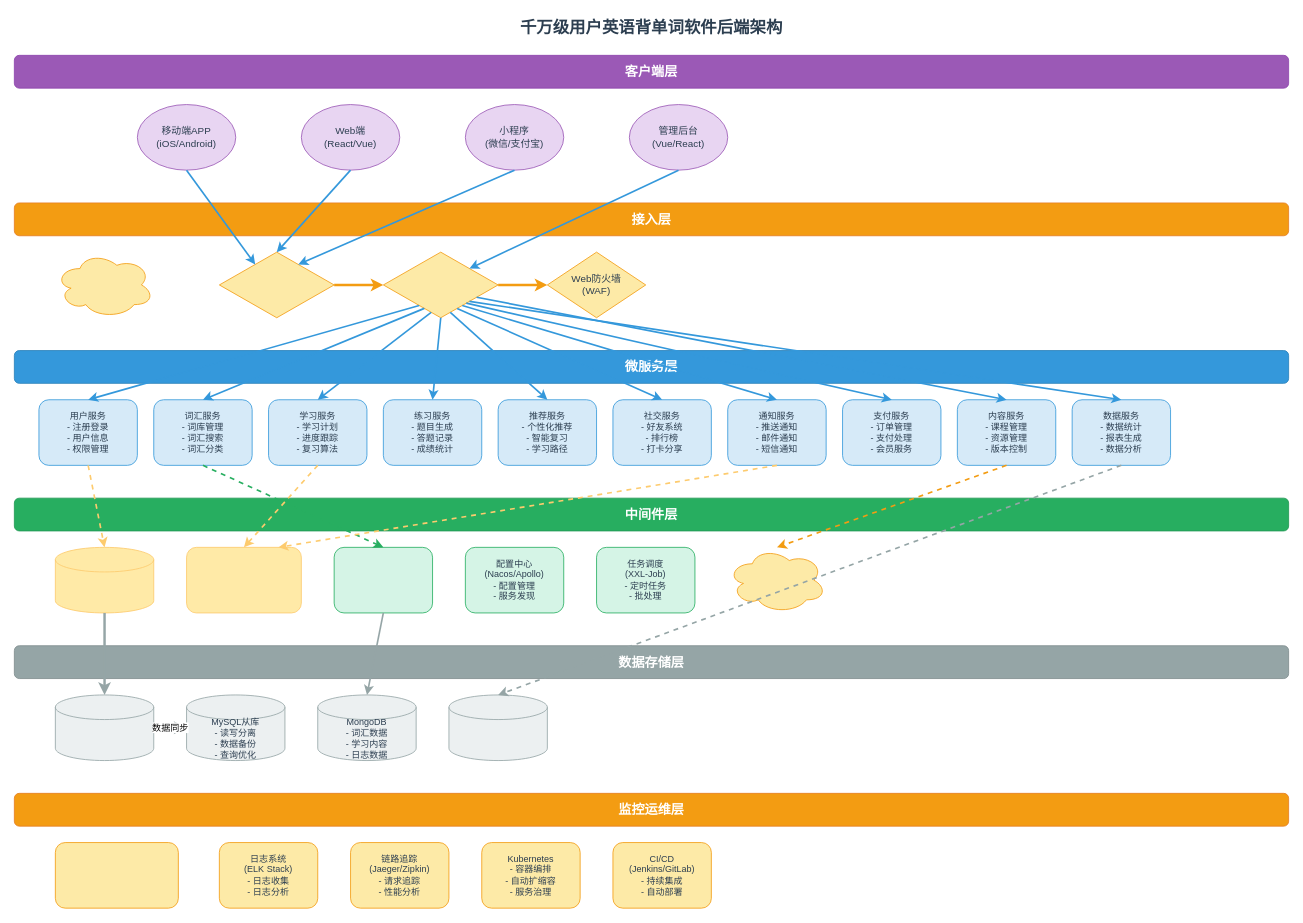
Some shapes in this 1303 by 923 pixel diagram are drawn without their labels. Here are the shapes that lost their labels. From the top down, the box of each, then its label:
(55, 251, 154, 318): CDN (静态资源)
(219, 251, 334, 318): 负载均衡器 (Nginx/ALB)
(383, 251, 498, 318): API网关 (Kong/Zuul) - 认证授权 - 限流熔断 - 路由转发
(55, 547, 154, 613): Redis集群 - 缓存 - 会话存储 - 分布式锁
(186, 547, 301, 613): 消息队列 (Kafka/RabbitMQ) - 异步处理 - 事件驱动
(333, 547, 433, 613): Elasticsearch - 词汇搜索 - 全文检索 - 日志分析
(727, 547, 826, 613): 对象存储 (OSS/S3) - 音频文件 - 图片资源
(55, 694, 154, 761): MySQL主库 - 用户数据 - 学习记录 - 业务数据
(448, 694, 547, 761): 数据仓库 (ClickHouse) - 行为分析 - 统计报表
(55, 842, 178, 908): 监控系统 (Prometheus+Grafana) - 性能监控 - 告警通知
